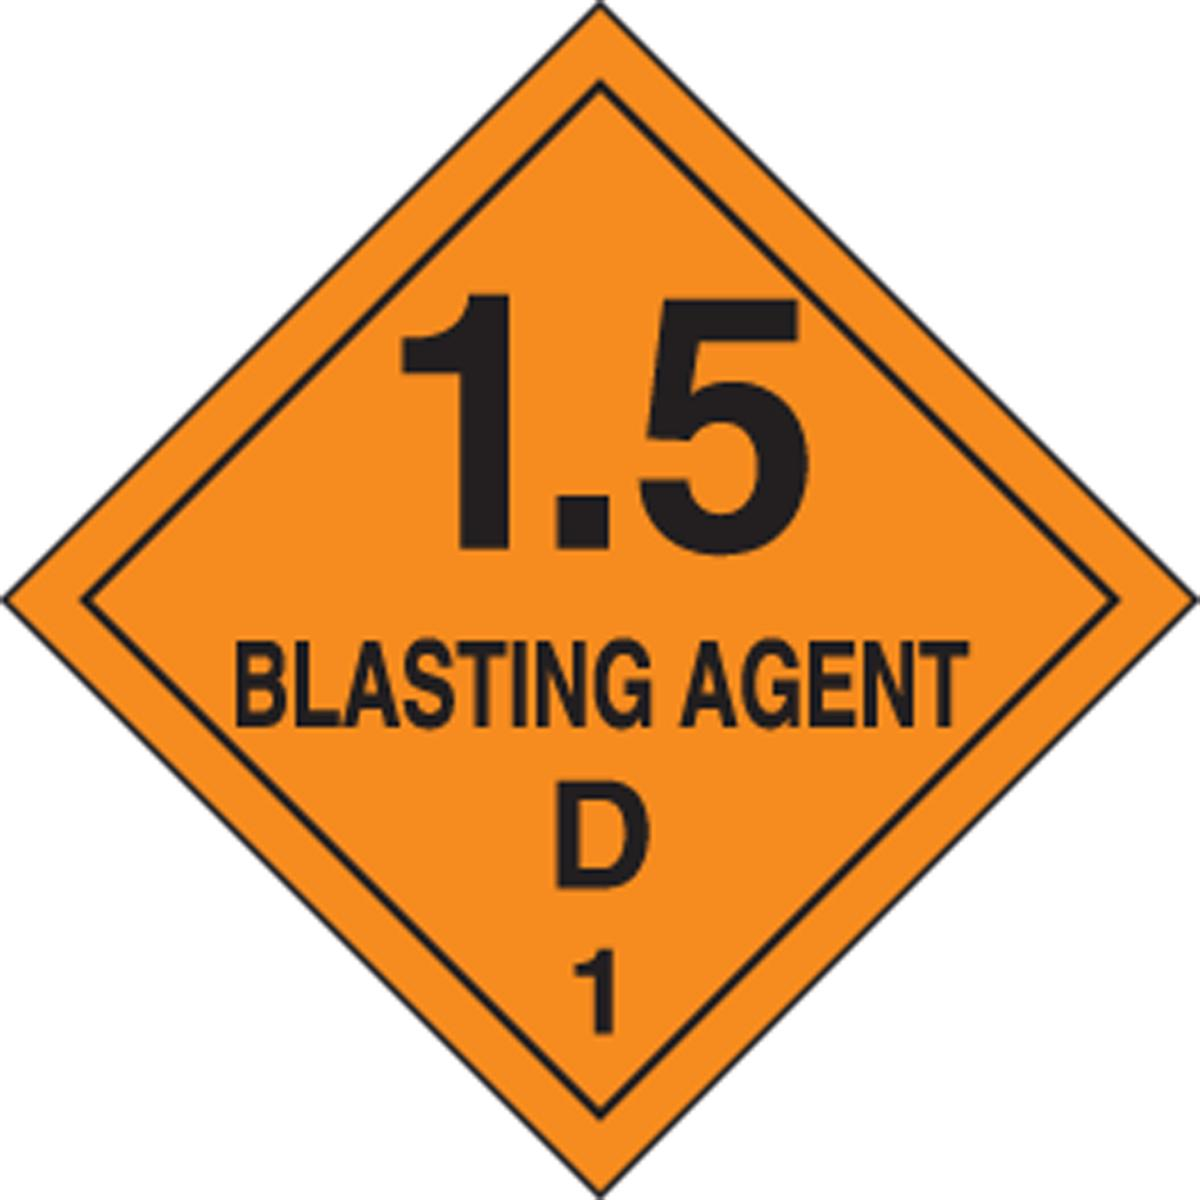explosive: (1, 1, 1200, 1200)
